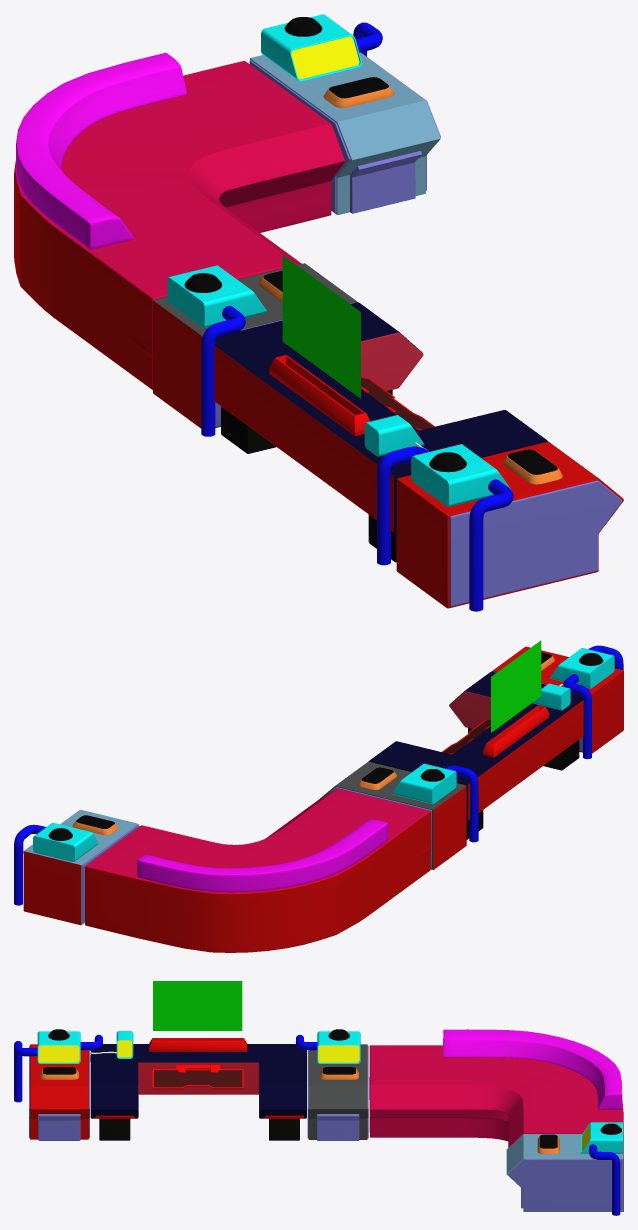
The model's file is Computer_System_Table.fbx.
3 renders of one model, top to bottom at view 1: azimuth 30°, elevation 25°; view 2: azimuth 150°, elevation 25°; view 3: azimuth 270°, elevation 25°, orthographic. The views are drawn at different scales.
Parts seen in each view (by area): view 1: Computer_System_Table; view 2: Computer_System_Table; view 3: Computer_System_Table.
Part boxes in pixels (<box>): Computer_System_Table: <box>14,14,623,611</box>; Computer_System_Table: <box>14,640,623,952</box>; Computer_System_Table: <box>14,981,623,1215</box>.
Bounding box in the file's own units: 450 × 209 × 943.
